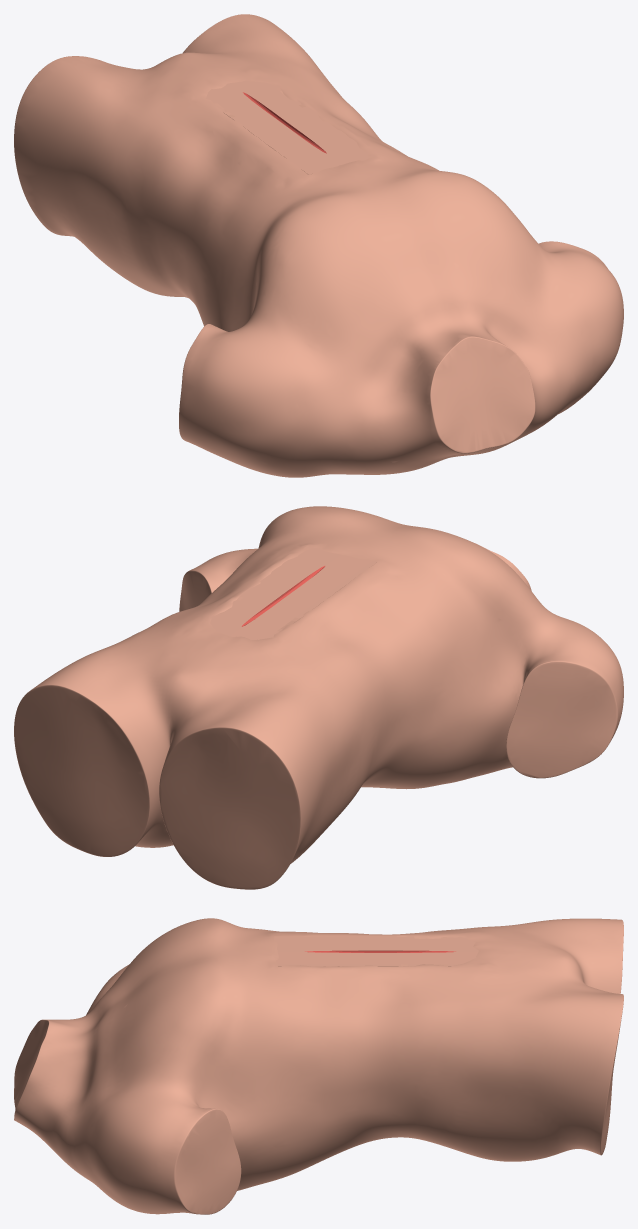
File: herida_4_moviiento.fbx
The picture shows the model from 3 angles, top to bottom: view 1: azimuth 30°, elevation 25°; view 2: azimuth 150°, elevation 25°; view 3: azimuth 270°, elevation 25°; orthographic projection. The views are drawn at different scales.
Parts seen in each view (by area): view 1: Cubo; view 2: Cubo; view 3: Cubo.
Part boxes in pixels (box(x1,y1,x2,y2)): Cubo: box(14, 14, 623, 477); Cubo: box(14, 506, 623, 889); Cubo: box(14, 918, 623, 1214).
Bounding box in the file's own units: 5882 × 3049 × 7880.
